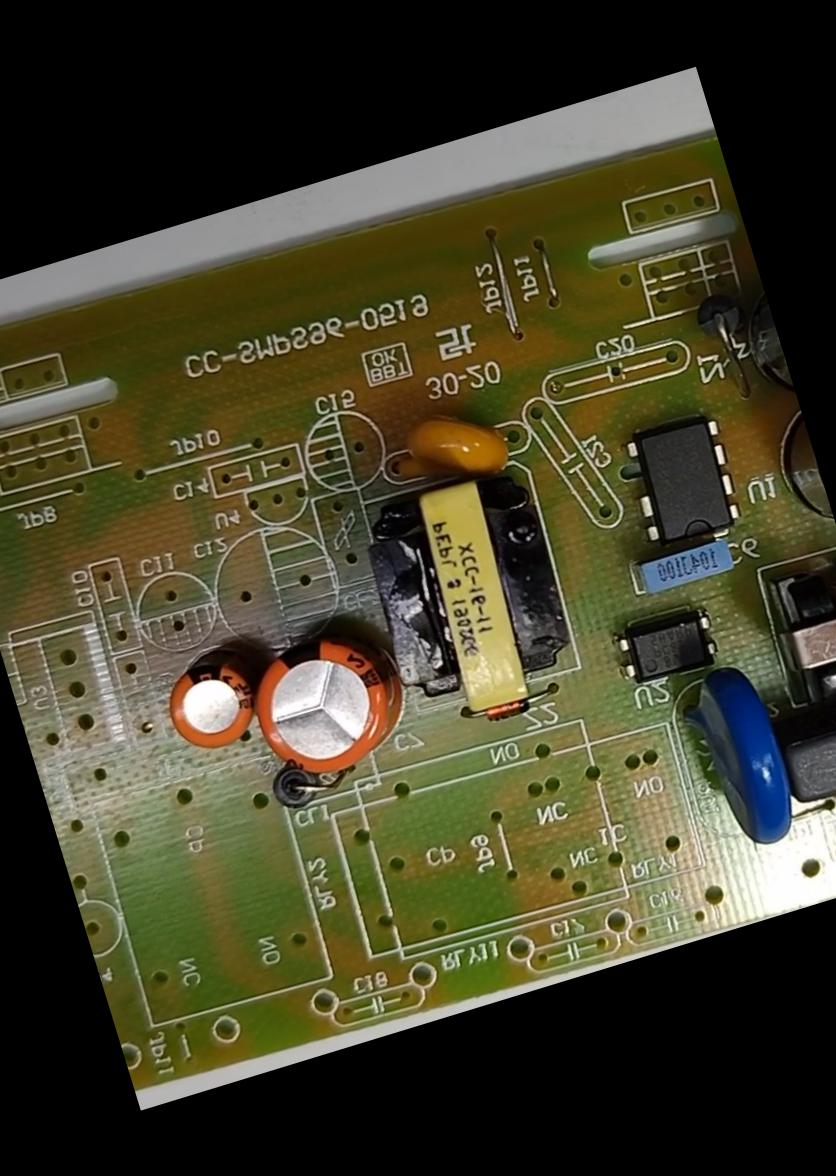Cap1: (232, 603, 424, 807)
Cap2: (140, 624, 287, 775)
Cap3: (758, 391, 835, 560)
Cap4: (713, 258, 797, 414)
MOSFET: (602, 398, 760, 566)
Mov: (660, 646, 816, 868)
Transformer: (342, 446, 595, 758), (750, 546, 835, 735)
